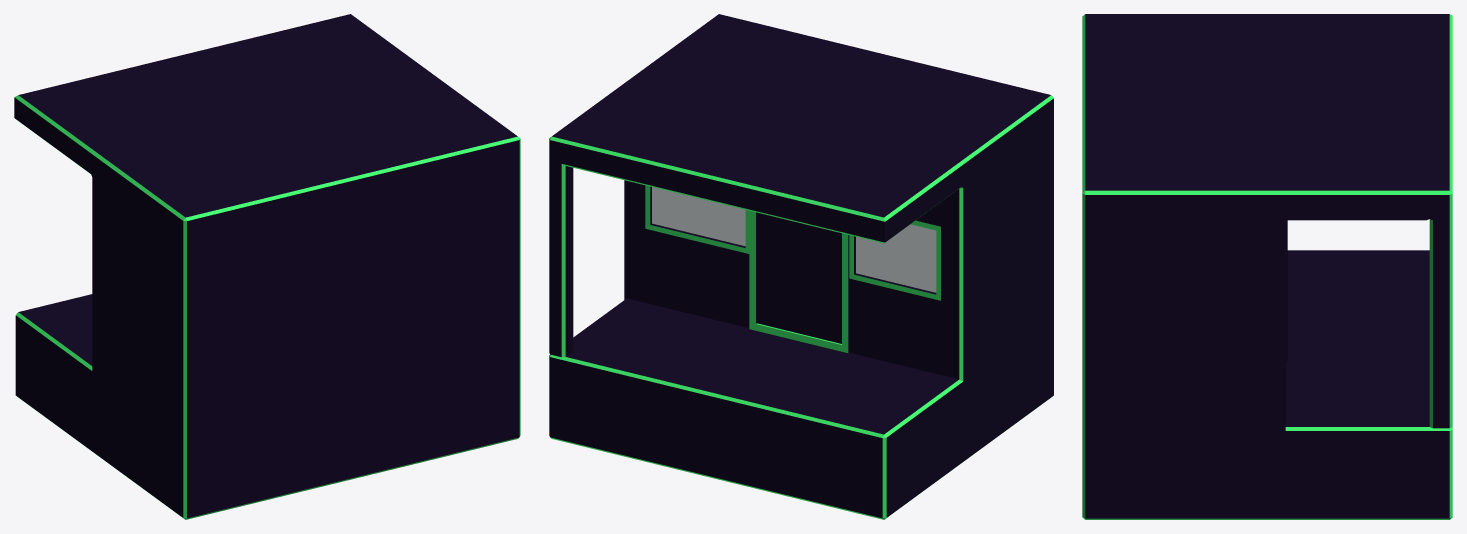
Rendered from Train Station_Green.fbx.
3 views of the same model, side by side, from view 1: azimuth 30°, elevation 25°; view 2: azimuth 150°, elevation 25°; view 3: azimuth 270°, elevation 25° (orthographic). The views are drawn at different scales.
Visible parts, largest first — view 1: Cube; view 2: Cube; view 3: Cube.
Boxes of the visible parts, <box> form: Cube: <box>14,14,520,519</box>; Cube: <box>549,14,1053,519</box>; Cube: <box>1082,14,1452,519</box>.
Bounding box in the file's own units: 400 × 343 × 349.
